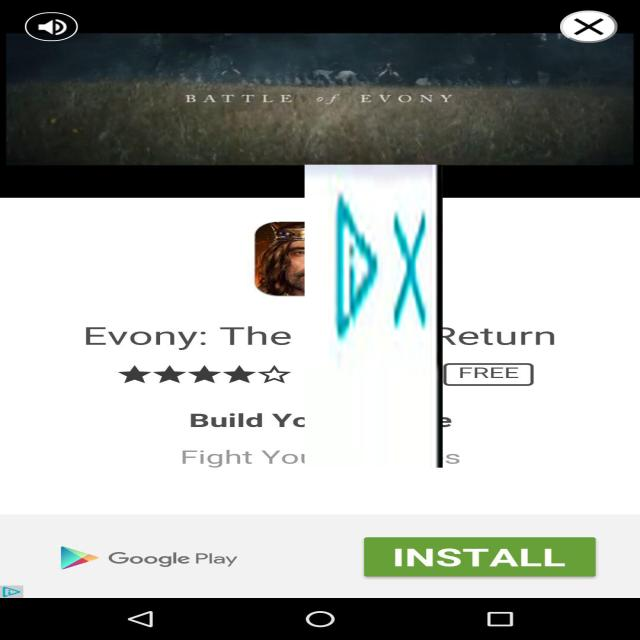sneaking: (304, 165, 442, 468)
